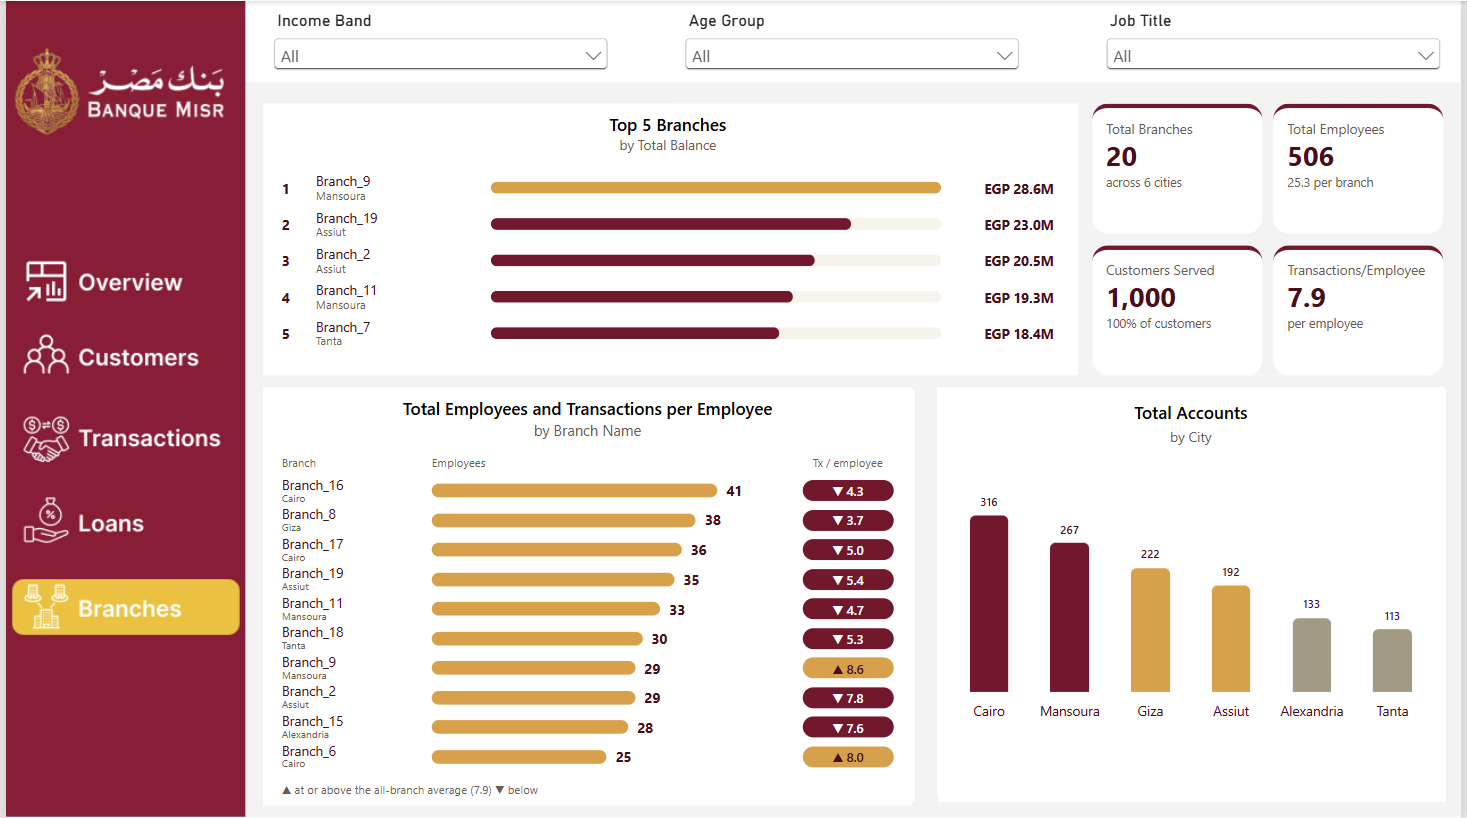

The page's visual inventory and layout, read from the dashboard file:
{"tool":"powerbi","page":{"name":"Branches","canvas":[1280,720],"ordinal":5},"visuals":[{"type":"slicer","fields":{"Values":["DimCustomers.Income Band"]},"box":[231,9,303.6,63.1],"z":0},{"type":"slicer","fields":{"Values":["DimCustomers.Age Group"]},"box":[592.9,9,303.6,63.1],"z":1000},{"type":"slicer","fields":{"Values":["DimCustomers.Job_Title"]},"box":[963.1,9,303.6,63.1],"z":2000},{"type":"actionButton","box":[3.6,221.4,206,52.4],"z":3000},{"type":"actionButton","box":[0,285.7,206,52.4],"z":4000},{"type":"actionButton","box":[1.2,359.5,206,52.4],"z":5000},{"type":"actionButton","box":[2.4,432.1,206,52.4],"z":6000},{"type":"actionButton","box":[2.4,506,206,52.4],"z":7000},{"type":"htmlContent443BE3AD55E043BF878BED274D3A6855","fields":{"content":["HTML.HTML KPI Branches"]},"box":[956,90.5,309,239],"z":8000},{"type":"htmlContent443BE3AD55E043BF878BED274D3A6855","fields":{"content":["HTML.HTML Branches Top 10 Branches"]},"box":[226.2,90.5,716.7,239.3],"z":9000},{"type":"htmlContent443BE3AD55E043BF878BED274D3A6855","fields":{"content":["HTML.HTML Branches Employees and Transactions per Employee"]},"box":[226.2,340,570.2,367.9],"z":10000},{"type":"htmlContent443BE3AD55E043BF878BED274D3A6855","fields":{"content":["HTML.HTML Branches Accounts by City"]},"box":[819.1,340,446.4,360.7],"z":11000}]}

Visuals, with their boxes in screenshot pixels (x1, y1, x2, y2), scaled from the page's 1280x720 canvas onto the 1467x818 screenshot:
slicer - DimCustomers.Income Band: box(265, 10, 613, 82)
slicer - DimCustomers.Age Group: box(680, 10, 1027, 82)
slicer - DimCustomers.Job_Title: box(1104, 10, 1452, 82)
actionButton: box(4, 252, 240, 311)
actionButton: box(0, 325, 236, 384)
actionButton: box(1, 408, 237, 468)
actionButton: box(3, 491, 239, 550)
actionButton: box(3, 575, 239, 634)
htmlContent443BE3AD55E043BF878BED274D3A6855 - HTML.HTML KPI Branches: box(1096, 103, 1450, 374)
htmlContent443BE3AD55E043BF878BED274D3A6855 - HTML.HTML Branches Top 10 Branches: box(259, 103, 1081, 375)
htmlContent443BE3AD55E043BF878BED274D3A6855 - HTML.HTML Branches Employees and Transactions per Employee: box(259, 386, 913, 804)
htmlContent443BE3AD55E043BF878BED274D3A6855 - HTML.HTML Branches Accounts by City: box(939, 386, 1450, 796)
